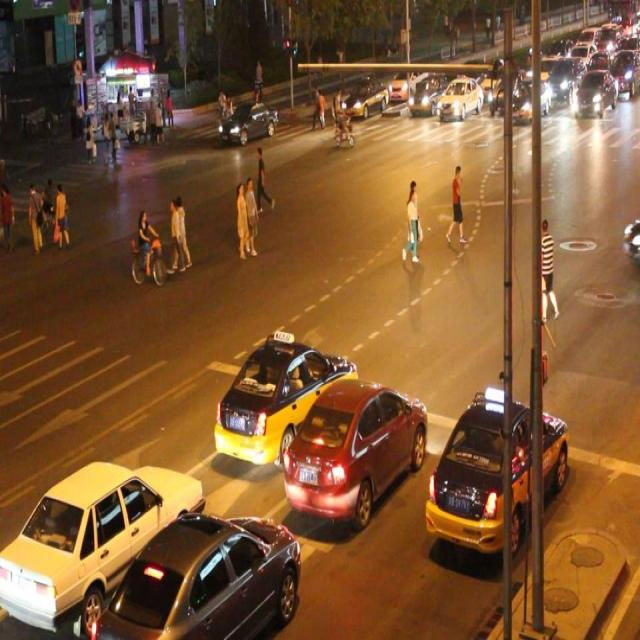car: (1, 462, 202, 626), (93, 507, 300, 640), (425, 399, 566, 559), (284, 380, 425, 524), (215, 334, 358, 468), (219, 101, 278, 146), (340, 73, 388, 115), (437, 76, 481, 121), (409, 72, 444, 113), (617, 208, 640, 259)
